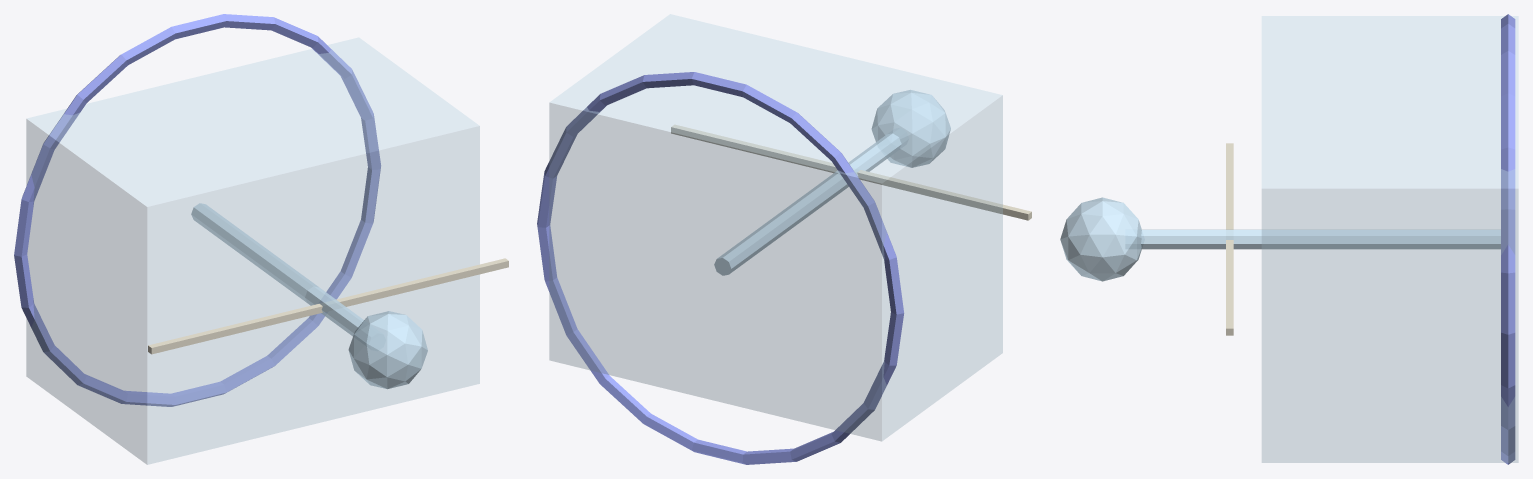
Rendered from 05_dynamic_camera_trigger.glb.
The picture shows the model from 3 angles, left to right: view 1: azimuth 30°, elevation 25°; view 2: azimuth 150°, elevation 25°; view 3: azimuth 270°, elevation 25°; orthographic projection. The views are drawn at different scales.
Visible parts, largest first — view 1: camera_trigger_volume, combat_start_ring, focus_target, focus_target_pole, camera_axis; view 2: camera_trigger_volume, combat_start_ring, focus_target, focus_target_pole, camera_axis; view 3: camera_trigger_volume, focus_target_pole, combat_start_ring, focus_target, camera_axis.
Part boxes in pixels (x1,y1,x2,y2): camera_trigger_volume: [26, 37, 479, 464]; combat_start_ring: [14, 14, 380, 406]; focus_target: [348, 311, 427, 389]; focus_target_pole: [191, 203, 364, 336]; camera_axis: [148, 258, 508, 354]; camera_trigger_volume: [549, 14, 1002, 441]; combat_start_ring: [537, 72, 904, 464]; focus_target: [871, 90, 950, 167]; focus_target_pole: [714, 133, 901, 275]; camera_axis: [671, 124, 1031, 220]; camera_trigger_volume: [1262, 16, 1518, 462]; focus_target_pole: [1141, 229, 1500, 249]; combat_start_ring: [1501, 14, 1515, 464]; focus_target: [1060, 197, 1141, 281]; camera_axis: [1226, 143, 1233, 335].
Bounding box in the file's own units: 1.49 × 1.47 × 1.51.
